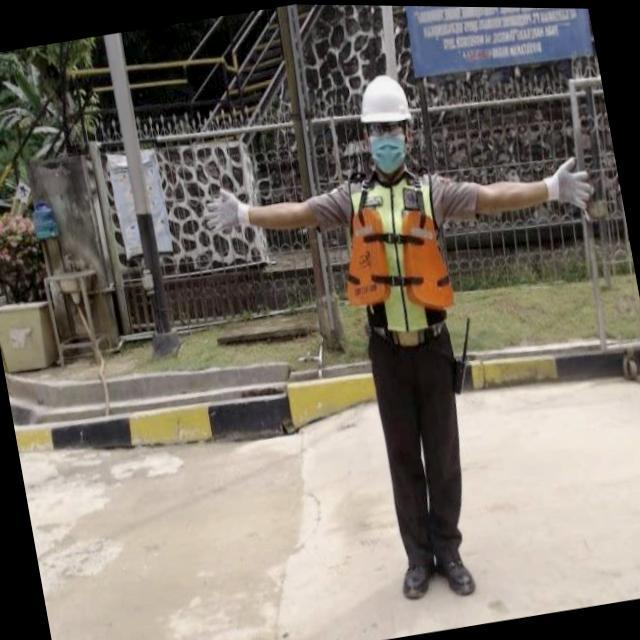goggles_on: (365, 119, 408, 139)
